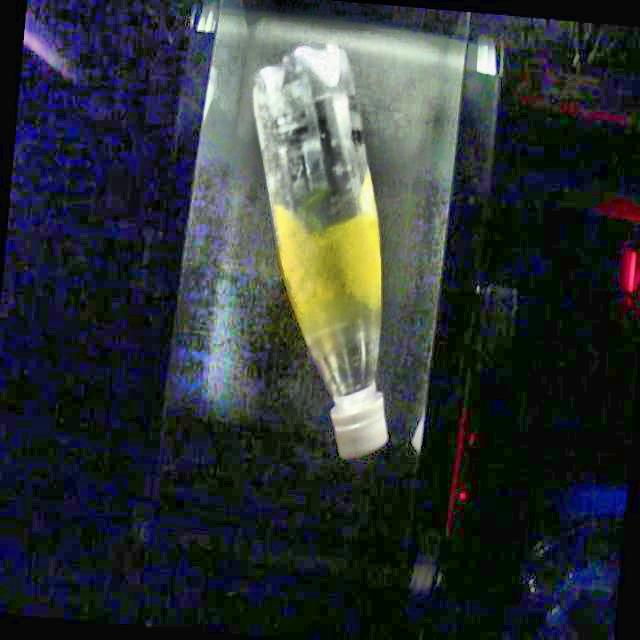plastic bottle: (254, 42, 388, 458)
